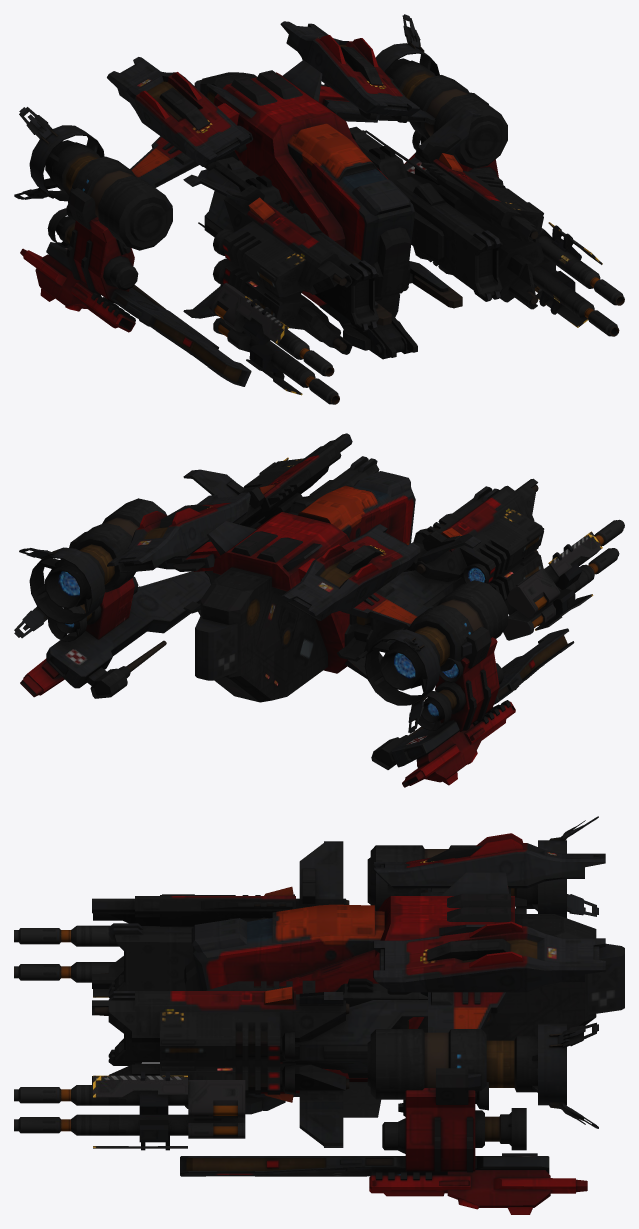
The model's file is cygf35.glb.
3 views of the same model, one above another, from view 1: azimuth 30°, elevation 25°; view 2: azimuth 150°, elevation 25°; view 3: azimuth 270°, elevation 25° (orthographic). The views are drawn at different scales.
Visible parts, largest first — view 1: GXX_Cockpit-E001, GXX_L-Prop-A002, GXX_L-Prop-A001, GXX_L-Wing-A002, GXX_L-Wing-E002, GXX_L-Wing-E001, GXX_L-Prop-E002, GXX_L-LaserX004, GXX_L-Prop-E001, GXX_L-LaserX003, GXX_L-Wing-A001; view 2: GXX_Cockpit-E001, GXX_L-Prop-A002, GXX_L-Wing-A002, GXX_L-Wing-E002, GXX_L-Wing-A001, GXX_L-Wing-E001, GXX_L-Prop-E002, GXX_L-Prop-A001, GXX_L-LaserX004, GXX_L-Prop-E001; view 3: GXX_Cockpit-E001, GXX_L-Prop-A001, GXX_L-Wing-A001, GXX_L-Wing-E001, GXX_L-Prop-A002, GXX_L-Prop-E001, GXX_L-LaserX003, GXX_L-Prop-E002, GXX_L-Wing-E002, GXX_L-LaserX004.
Boxes of the visible parts, x1,y1,x2,y2 form: GXX_Cockpit-E001: (194,60,462,359); GXX_L-Prop-A002: (183,157,378,354); GXX_L-Prop-A001: (349,108,543,309); GXX_L-Wing-A002: (20,187,251,386); GXX_L-Wing-E002: (14,103,252,250); GXX_L-Wing-E001: (319,14,507,168); GXX_L-Prop-E002: (107,57,250,170); GXX_L-LaserX004: (209,283,339,404); GXX_L-Prop-E001: (280,21,420,122); GXX_L-LaserX003: (532,222,624,336); GXX_L-Wing-A001: (404,92,557,292); GXX_Cockpit-E001: (195,471,415,702); GXX_L-Prop-A002: (337,478,544,661); GXX_L-Wing-A002: (371,626,574,787); GXX_L-Wing-E002: (298,558,508,733); GXX_L-Wing-A001: (20,531,210,698); GXX_L-Wing-E001: (14,498,219,638); GXX_L-Prop-E002: (280,524,420,620); GXX_L-Prop-A001: (183,433,379,615); GXX_L-LaserX004: (503,519,624,640); GXX_L-Prop-E001: (107,492,250,572); GXX_Cockpit-E001: (184,872,624,1117); GXX_L-Prop-A001: (92,978,427,1147); GXX_L-Wing-A001: (180,1068,587,1214); GXX_L-Wing-E001: (367,992,598,1128); GXX_L-Prop-A002: (92,841,349,994); GXX_L-Prop-E001: (373,921,605,994); GXX_L-LaserX003: (14,1071,245,1150); GXX_L-Prop-E002: (373,833,605,893); GXX_L-Wing-E002: (367,816,598,918); GXX_L-LaserX004: (14,913,159,997).
Bounding box in the file's own units: 11.32 × 5.25 × 13.05.
2 materials, 2 textured.
